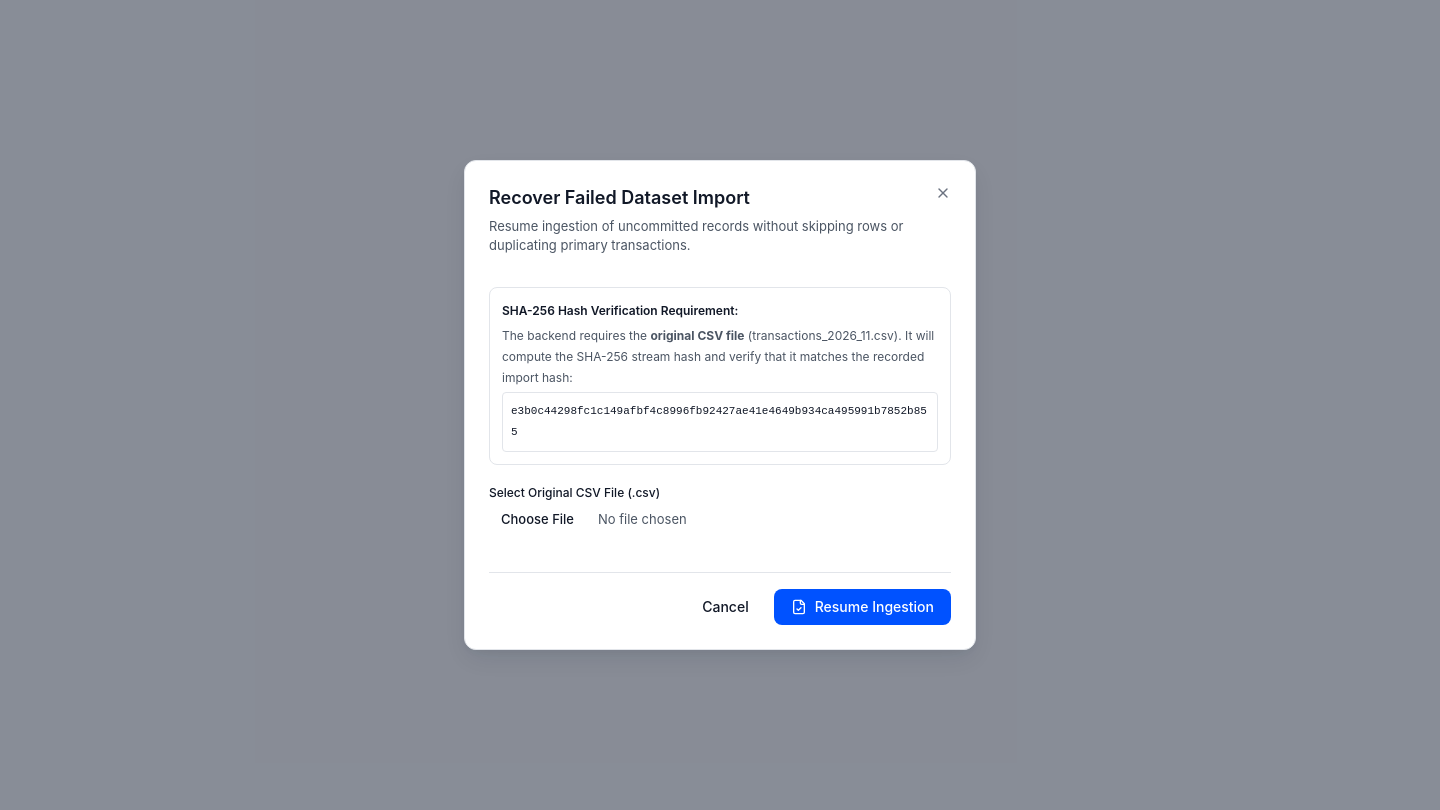
Test: DatasetRecoveryDialog component (F4.5) › handles 409 advisory lock timeout error
Earlier steps of the test are not shown.
Click the button "Resume Ingestion". click: x=862, y=607
box: [774,589,951,625]
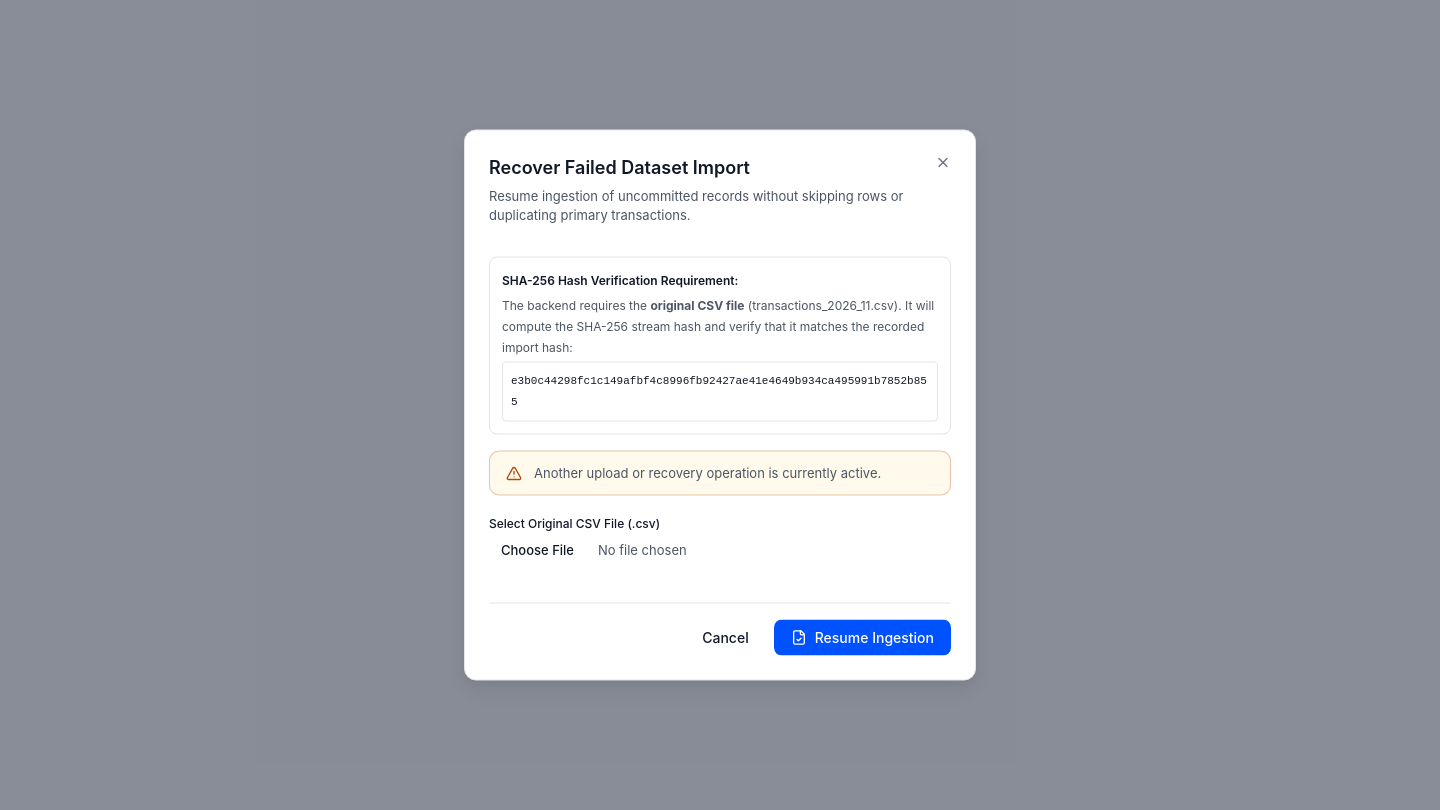
Now the message named "advisory lock timeout" is shown, box [489,450,951,496]
